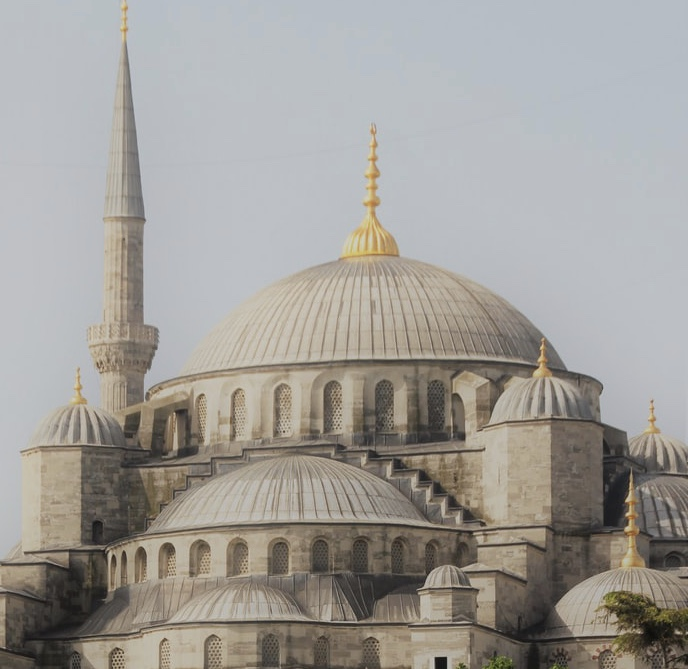Mosque: (20, 5, 678, 651)
